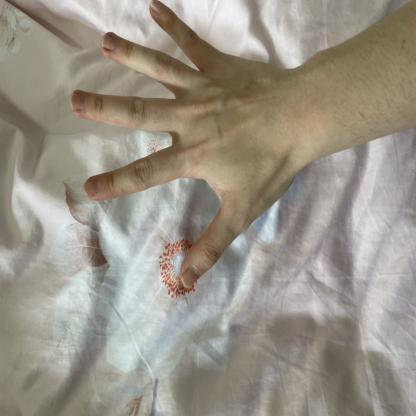bare_hand: (62, 0, 321, 313)
